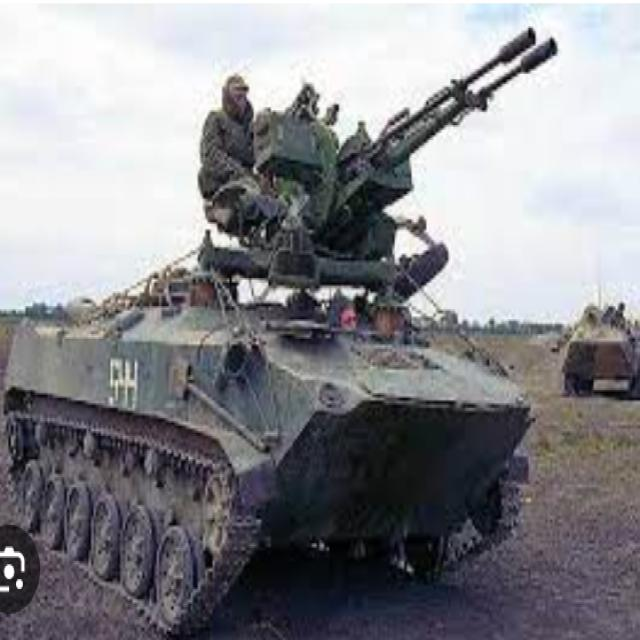MIL_APC: (18, 242, 543, 612)
